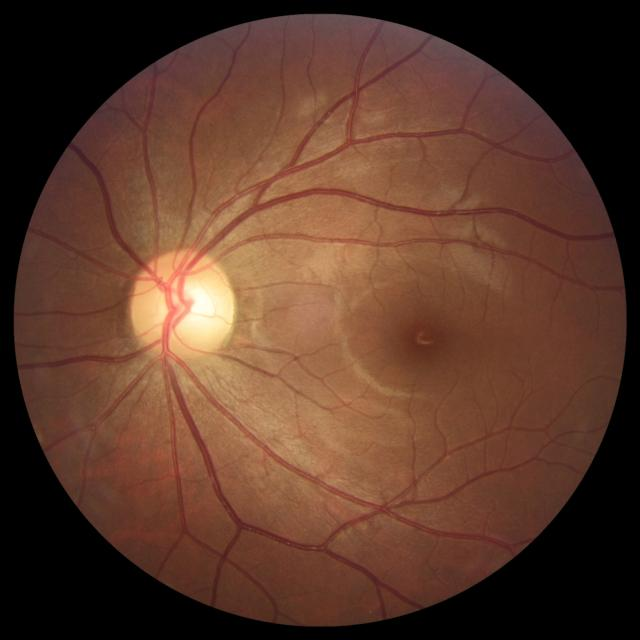OC: (161, 279, 215, 338)
OD: (128, 248, 235, 359)
